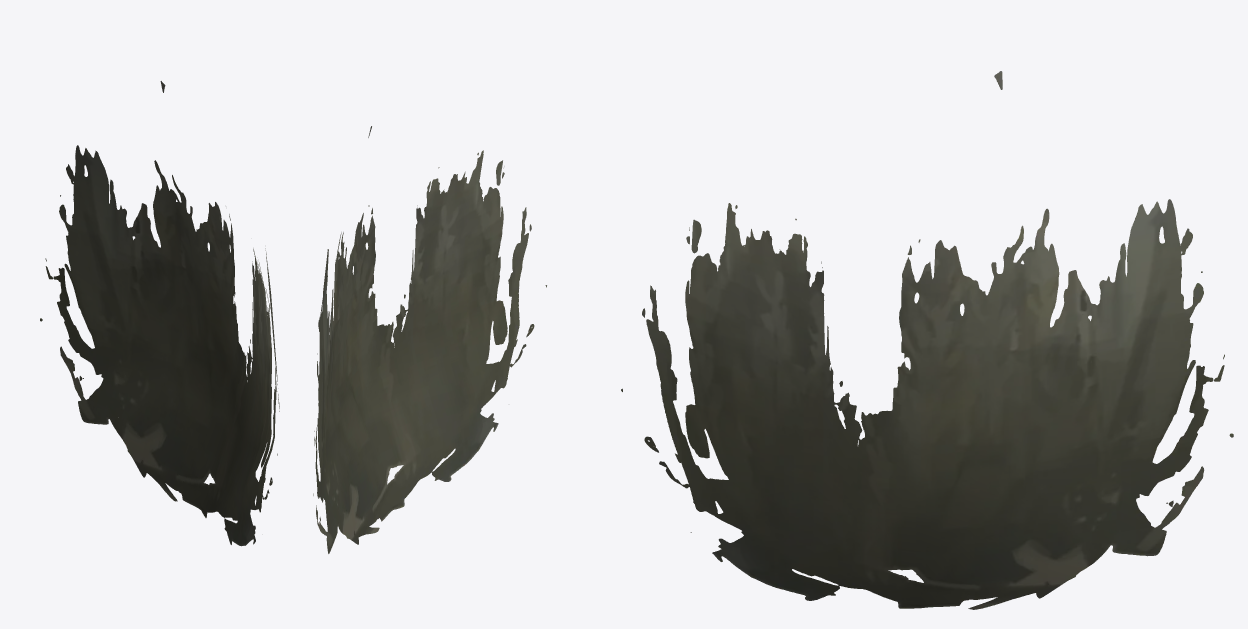
3 renders of one model, left to right at view 1: azimuth 30°, elevation 25°; view 2: azimuth 150°, elevation 25°; view 3: azimuth 270°, elevation 25°, orthographic. The views are drawn at different scales.
Parts seen in each view (by area): view 1: body0_model0_lod0_mesh0; view 2: body0_model0_lod0_mesh0; view 3: body0_model0_lod0_mesh0.
Part boxes in pixels (<box>): body0_model0_lod0_mesh0: <box>40,81,279,546</box>; body0_model0_lod0_mesh0: <box>313,126,546,553</box>; body0_model0_lod0_mesh0: <box>621,71,1233,609</box>.
Bounding box in the file's own units: 23.91 × 92.25 × 90.
Materials: 1 (1 with a texture image).
